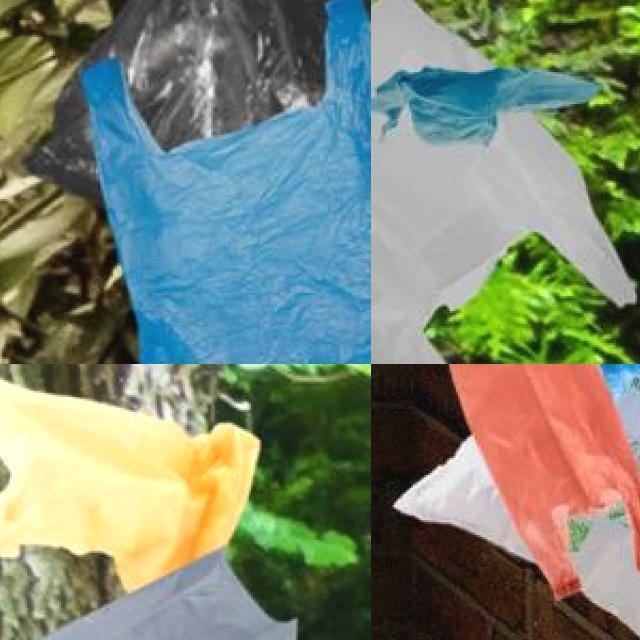waste: (75, 0, 371, 364), (371, 0, 636, 364), (399, 364, 640, 640), (0, 364, 258, 588), (455, 364, 640, 568), (0, 546, 304, 640)
